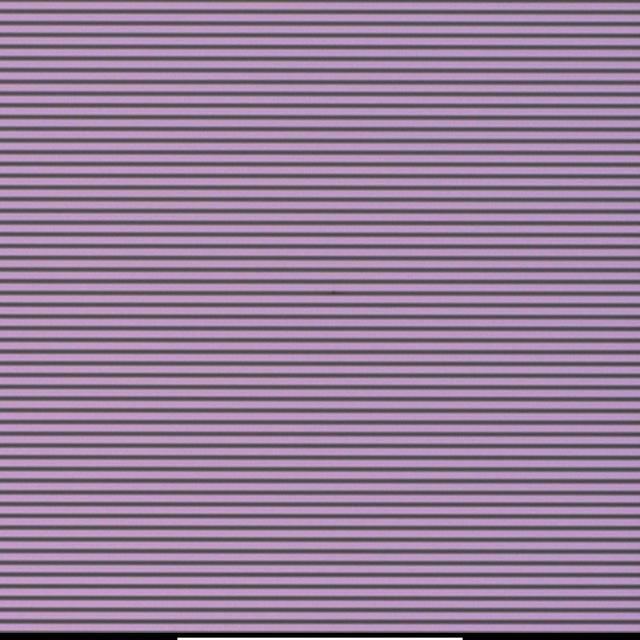03_intrusion: (328, 285, 340, 300)
